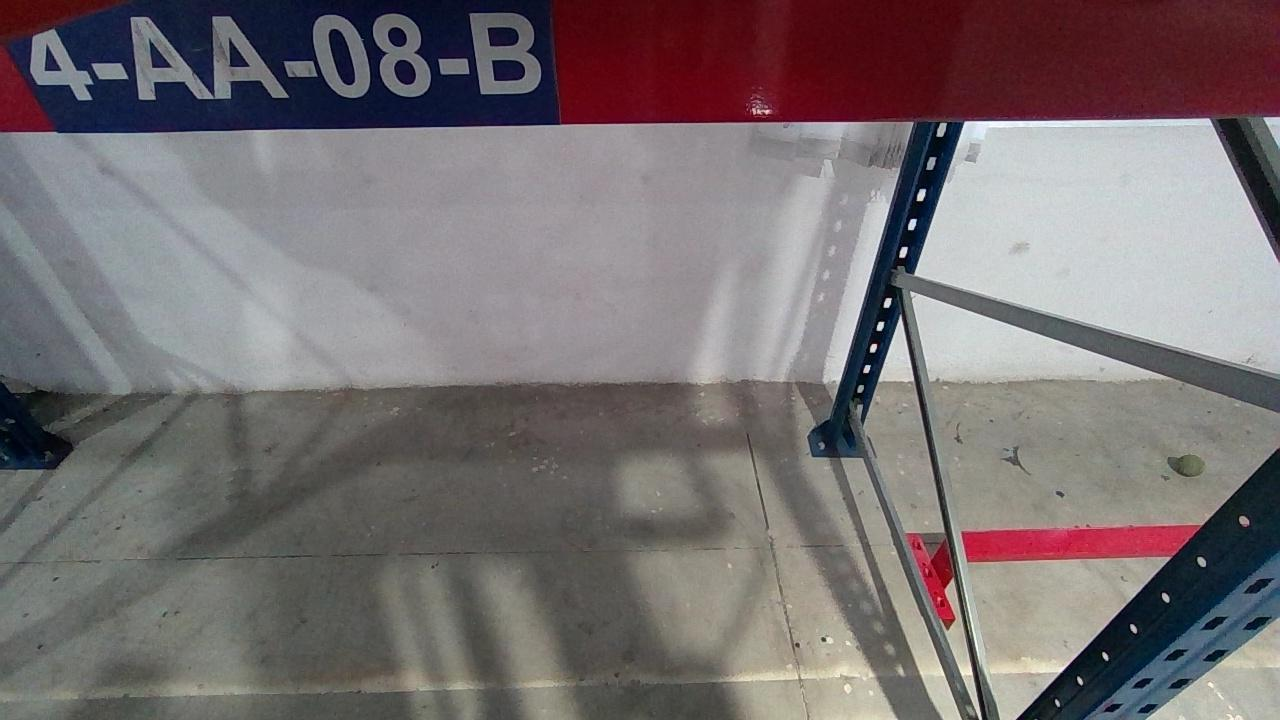h_rack: (0, 2, 1278, 126)
